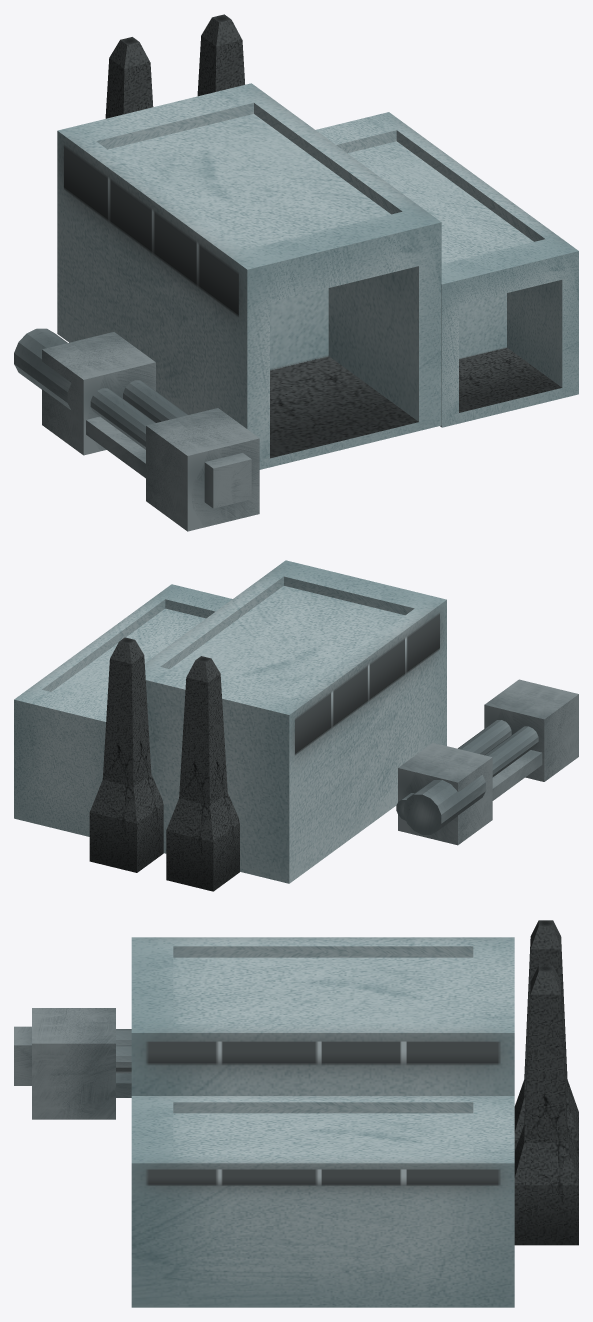
The model's file is RubberMill.fbx.
3 renders of one model, top to bottom at view 1: azimuth 30°, elevation 25°; view 2: azimuth 150°, elevation 25°; view 3: azimuth 270°, elevation 25°, orthographic. The views are drawn at different scales.
Parts seen in each view (by area): view 1: Cube.002, RubberFabricator; view 2: Cube.002, RubberFabricator; view 3: Cube.002, RubberFabricator.
Boxes of the visible parts, left/top/right/bottom form: Cube.002: left=57, top=14, right=578, bottom=469; RubberFabricator: left=14, top=328, right=259, bottom=531; Cube.002: left=14, top=560, right=446, bottom=891; RubberFabricator: left=396, top=679, right=578, bottom=845; Cube.002: left=131, top=920, right=578, bottom=1307; RubberFabricator: left=14, top=1008, right=131, bottom=1119.
Bounding box in the file's own units: 1232 × 695 × 1344.
